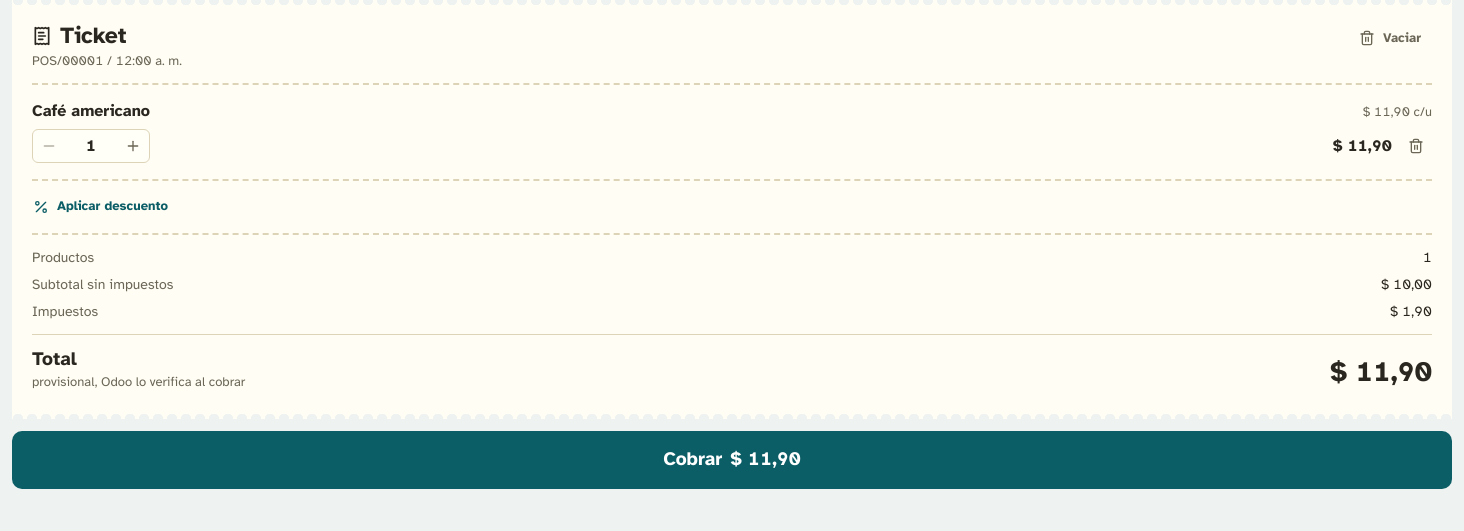
Test: Ticket (P07) › una cantidad inválida se rechaza con un mensaje junto al producto
The image size is (1464, 531).
Replace the text in the field named "Cantidad" with "0": [91, 146] box [65,130,117,162]
Then press Enter
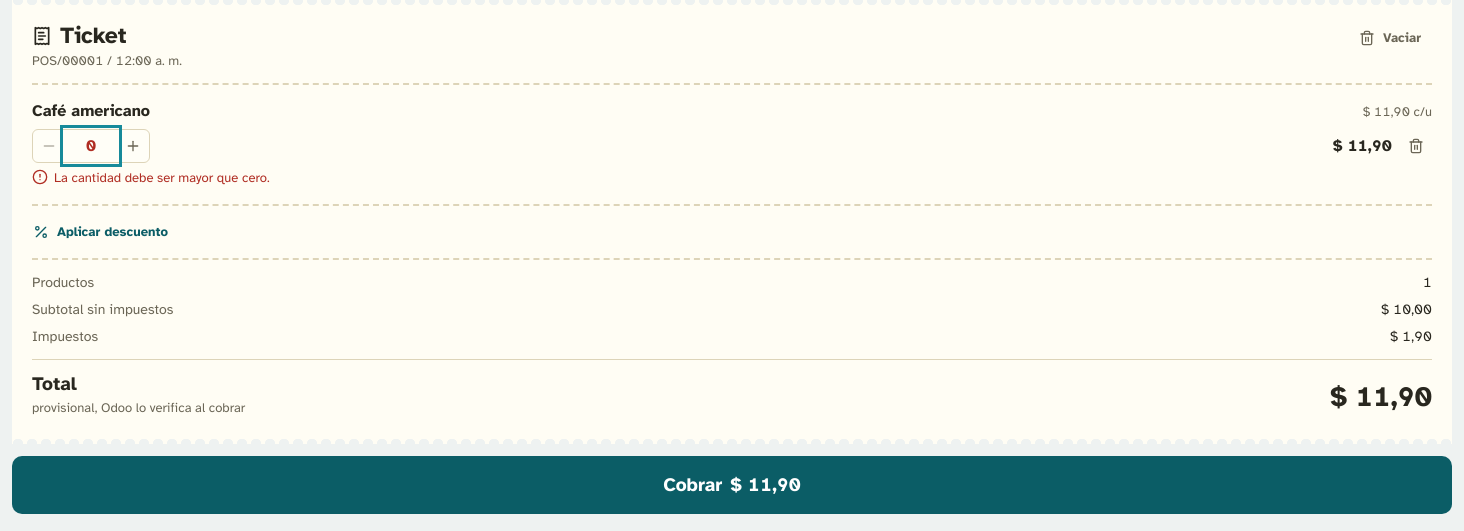
Expected: the text "La cantidad debe ser mayor que cero." is shown, [32,169,270,186]
